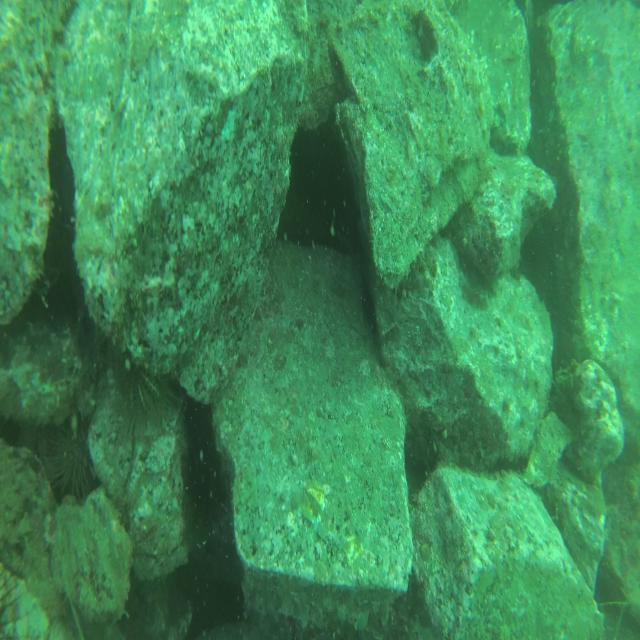echinus: (108, 354, 176, 426), (47, 416, 97, 505), (74, 316, 110, 382)
